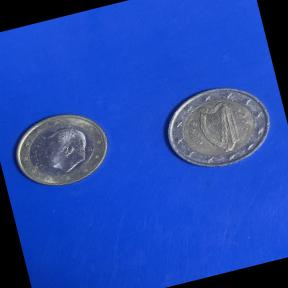coin: (151, 70, 285, 182), (2, 97, 120, 200)
